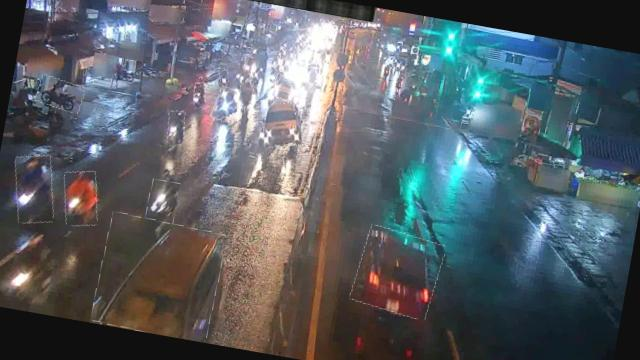Bike: (8, 151, 60, 226), (59, 168, 104, 229), (36, 74, 86, 112), (145, 179, 181, 225), (212, 86, 240, 123), (165, 109, 188, 145), (238, 78, 255, 106), (192, 82, 208, 108), (218, 68, 231, 86), (243, 56, 254, 72)
Car: (90, 212, 227, 343), (350, 226, 446, 320), (256, 93, 307, 150), (271, 74, 300, 102)
